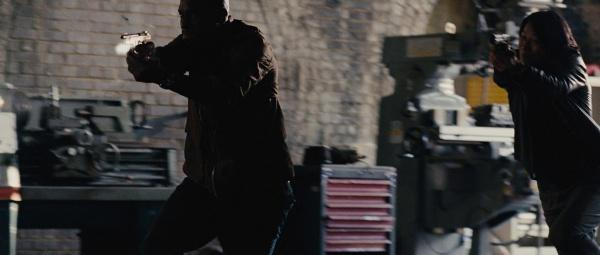Gun: (120, 30, 152, 47), (490, 33, 511, 49)
